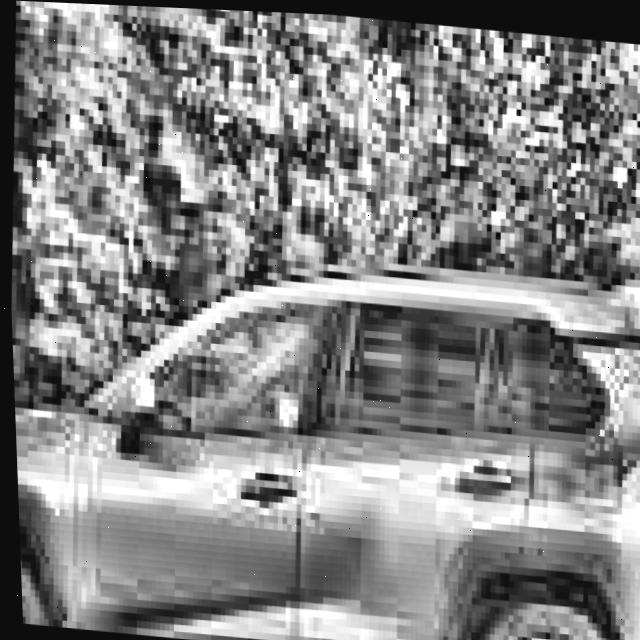light_vehicle: (6, 219, 640, 640)
